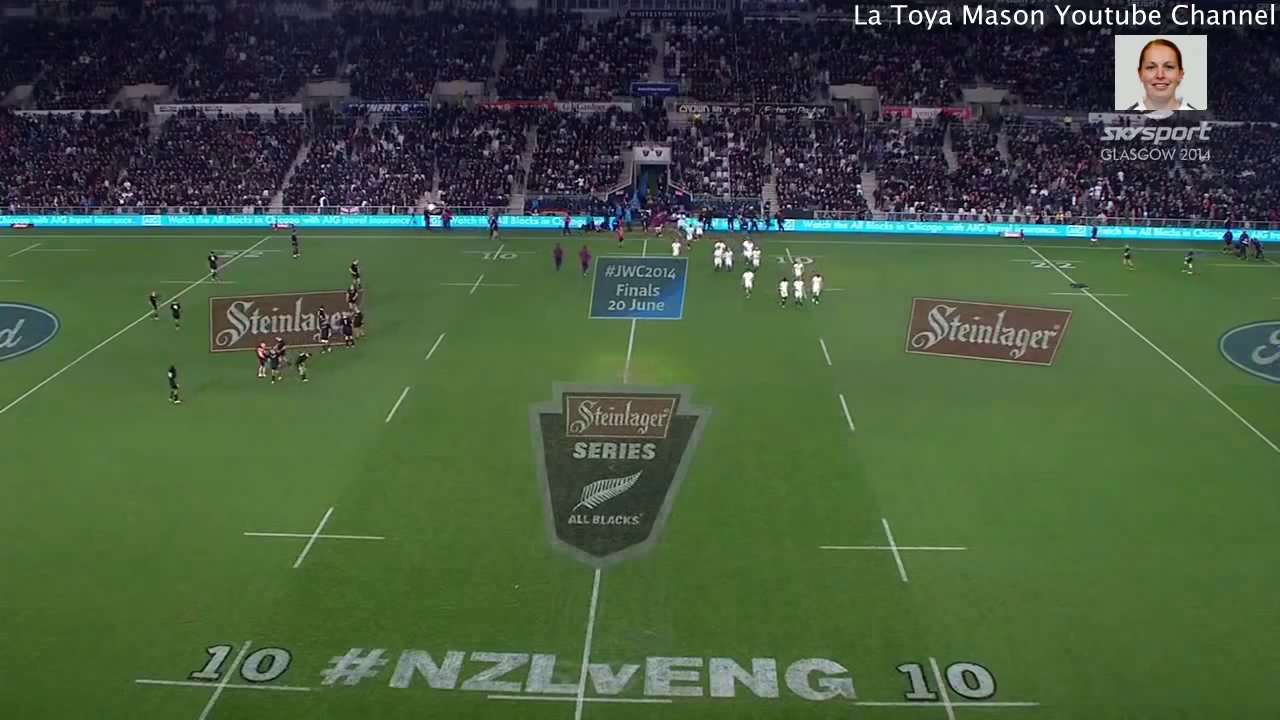10_metre: (128, 635, 316, 720), (846, 654, 1050, 720), (813, 515, 973, 586), (239, 503, 389, 573), (453, 239, 537, 268), (441, 272, 515, 300), (761, 247, 822, 270), (777, 277, 845, 297)
player: (260, 349, 286, 383), (165, 363, 185, 405), (349, 307, 371, 344), (294, 349, 314, 386), (274, 335, 295, 370), (1177, 245, 1197, 280), (340, 308, 356, 348), (1117, 239, 1137, 270), (576, 244, 592, 282), (318, 317, 333, 357), (349, 256, 365, 293), (809, 272, 825, 309), (788, 275, 807, 306), (146, 289, 162, 324), (205, 250, 221, 285), (253, 339, 267, 379), (288, 229, 303, 261), (740, 235, 755, 267), (170, 299, 184, 332), (344, 284, 361, 311), (710, 246, 724, 276), (776, 278, 789, 310), (740, 268, 753, 299), (721, 248, 737, 273), (553, 240, 564, 274), (682, 224, 695, 252), (613, 226, 626, 251), (670, 238, 682, 263), (751, 246, 762, 271), (791, 259, 804, 278), (313, 303, 327, 320), (695, 218, 703, 238), (713, 239, 725, 250)
